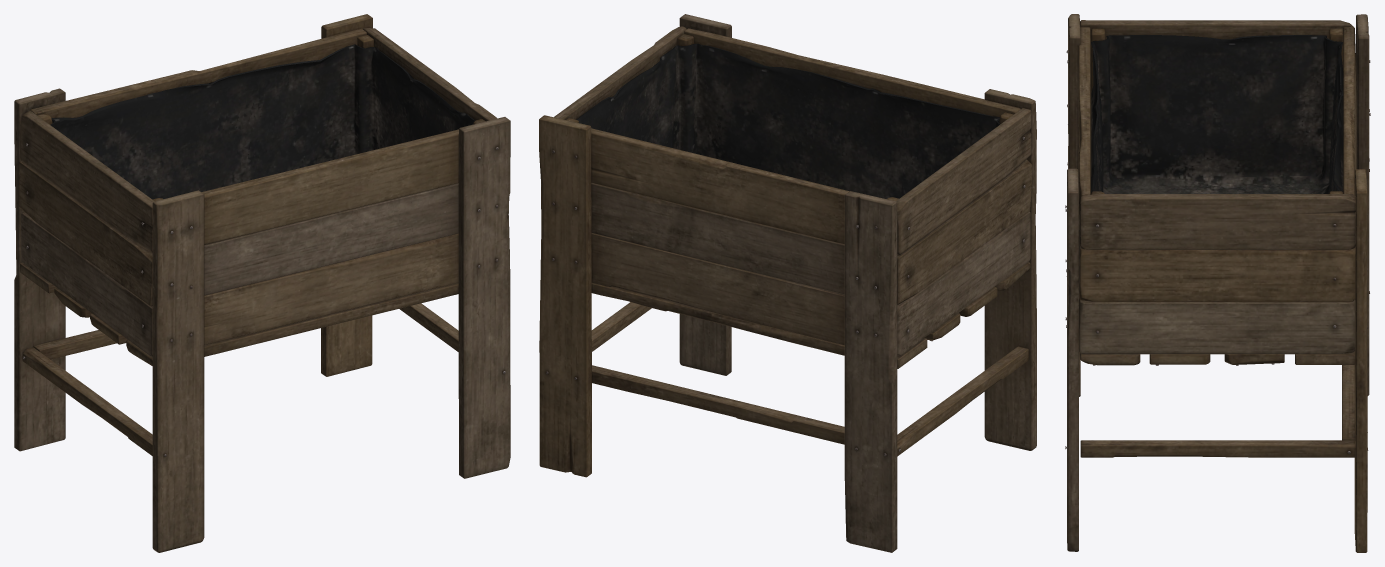
The model's file is planter_box_03.glb.
3 views of the same model, side by side, from view 1: azimuth 30°, elevation 25°; view 2: azimuth 150°, elevation 25°; view 3: azimuth 270°, elevation 25° (orthographic). The views are drawn at different scales.
Parts seen in each view (by area): view 1: planter_box_03; view 2: planter_box_03; view 3: planter_box_03.
Boxes of the visible parts, x1,y1,x2,y2 form: planter_box_03: [14, 14, 510, 552]; planter_box_03: [539, 14, 1036, 552]; planter_box_03: [1065, 14, 1370, 552].
Size of the model in its own units: 0.9143 by 0.8551 by 0.6555.
Materials: 1 (1 with a texture image).
